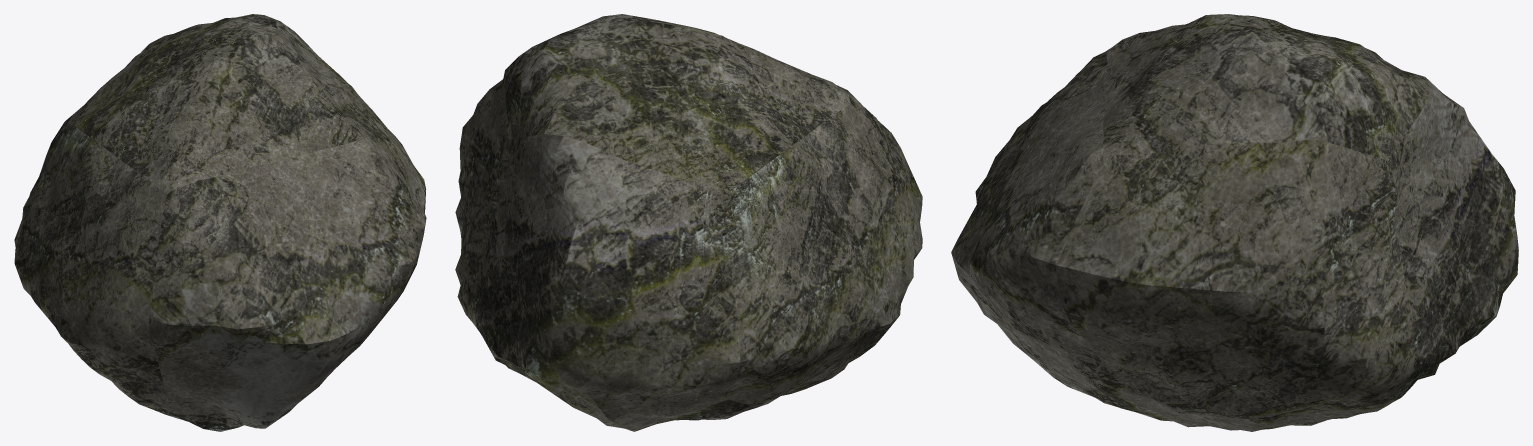
File: Rock10.fbx
The picture shows the model from 3 angles, left to right: view 1: azimuth 30°, elevation 25°; view 2: azimuth 150°, elevation 25°; view 3: azimuth 270°, elevation 25°; orthographic projection. The views are drawn at different scales.
Parts seen in each view (by area): view 1: rock.008; view 2: rock.008; view 3: rock.008.
Boxes of the visible parts, x1,y1,x2,y2 form: rock.008: (14, 14, 426, 431); rock.008: (455, 14, 922, 431); rock.008: (951, 14, 1518, 431).
Size of the model in its own units: 103 by 96.37 by 117.
